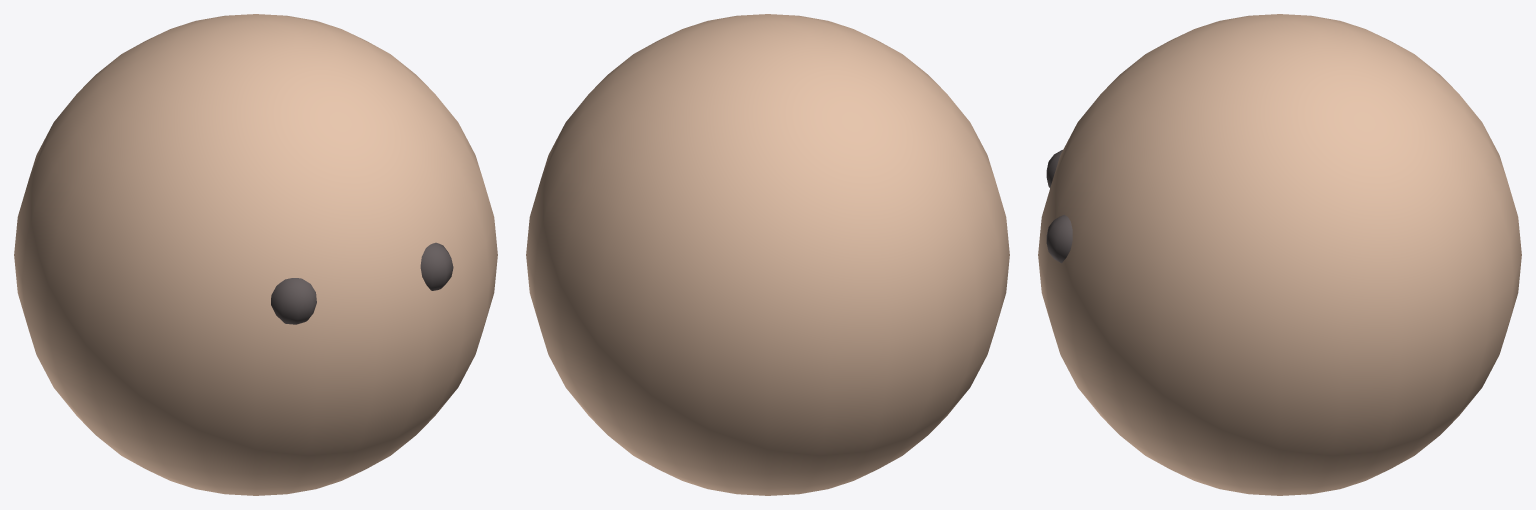
File: test-head.glb
The picture shows the model from 3 angles, left to right: view 1: azimuth 30°, elevation 25°; view 2: azimuth 150°, elevation 25°; view 3: azimuth 270°, elevation 25°; orthographic projection.
Parts seen in each view (by area): view 1: Head, LeftEye, RightEye; view 2: Head; view 3: Head, RightEye.
Boxes of the visible parts, x1,y1,x2,y2 form: Head: [14, 14, 497, 495]; LeftEye: [271, 278, 316, 324]; RightEye: [420, 242, 453, 290]; Head: [526, 14, 1009, 495]; Head: [1038, 14, 1521, 495]; RightEye: [1046, 215, 1072, 263].
Size of the model in its own units: 2 by 2 by 2.
